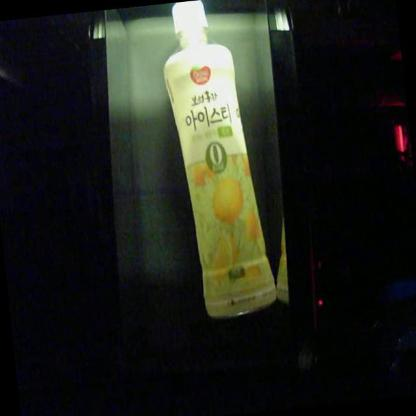Plastic Bottle: (165, 2, 277, 318)
